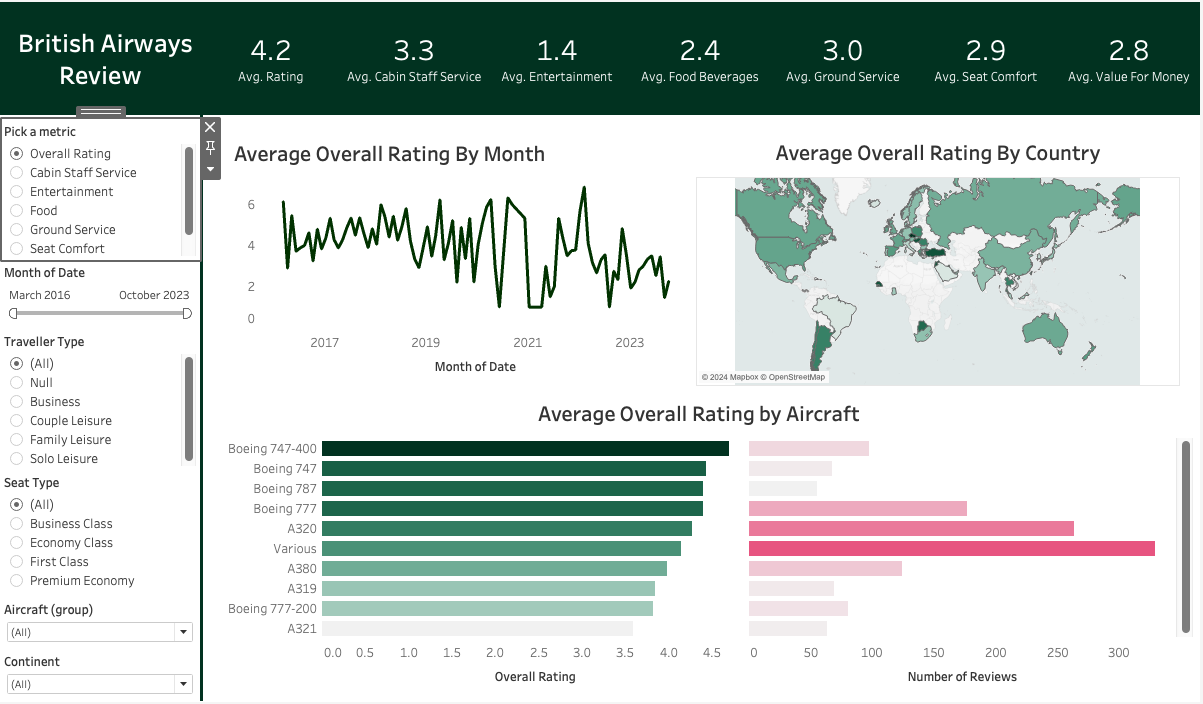

What the dashboard file says about the page in this screenshot:
{"tool":"tableau","page":{"name":"Dashboard 1","canvas":[1200,700],"ordinal":0},"visuals":[{"type":"text","box":[0,0,201,113]},{"type":"blank","box":[200,113,3,586]},{"type":"parameter","param":"[Parameters].[Parameter 1]","box":[0,117,200,141]},{"type":"worksheet","title":"Map","mark":"Automatic","box":[696,132,484,252]},{"type":"worksheet","title":"Sheet 4","mark":"Automatic","rows":["Calculation_5264919126845849600"],"cols":["date"],"box":[230,133,459,247]},{"type":"filter","title":"Map","param":"[federated.00cbutf05oe2371b2s5br0zb5j29].[tmn:date:qk]","box":[0,258,200,69]},{"type":"filter","title":"Map","param":"[federated.00cbutf05oe2371b2s5br0zb5j29].[none:traveller_type:nk]","box":[0,327,200,141]},{"type":"worksheet","title":"Sheet 5","mark":"Automatic","cols":["Calculation_5264919126845849600","ba_reviews.csv_4BBFE59385664C20915AFD2B7D32F31E"],"box":[222,393,972,297]},{"type":"filter","title":"Map","param":"[federated.00cbutf05oe2371b2s5br0zb5j29].[none:seat_type:nk]","box":[0,468,200,127]},{"type":"filter","title":"Map","param":"[federated.00cbutf05oe2371b2s5br0zb5j29].[Aircraft (group)]","box":[0,595,200,52]},{"type":"filter","title":"Map","param":"[federated.00cbutf05oe2371b2s5br0zb5j29].[none:Continent:nk]","box":[0,647,200,52]}]}

Visuals, with their boxes in screenshot pixels (x1, y1, x2, y2), scaled from the page's 1200x700 canvas onto the 1203x704 screenshot:
text: (left=0, top=0, right=202, bottom=114)
blank: (left=200, top=114, right=204, bottom=703)
parameter: (left=0, top=118, right=200, bottom=259)
"Map" worksheet: (left=698, top=133, right=1183, bottom=386)
"Sheet 4" worksheet: (left=231, top=134, right=691, bottom=382)
"Map" filter: (left=0, top=259, right=200, bottom=329)
"Map" filter: (left=0, top=329, right=200, bottom=471)
"Sheet 5" worksheet: (left=223, top=395, right=1197, bottom=694)
"Map" filter: (left=0, top=471, right=200, bottom=598)
"Map" filter: (left=0, top=598, right=200, bottom=651)
"Map" filter: (left=0, top=651, right=200, bottom=703)
